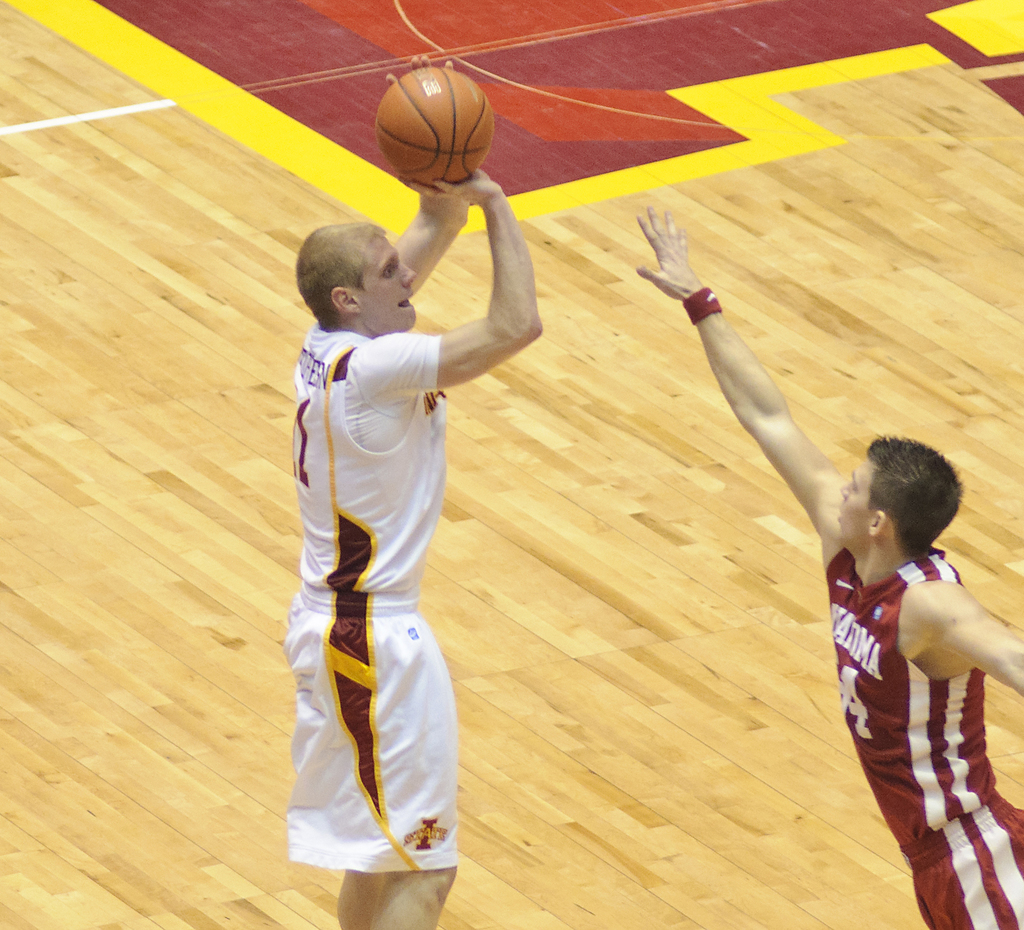Ball: (376, 67, 496, 193)
